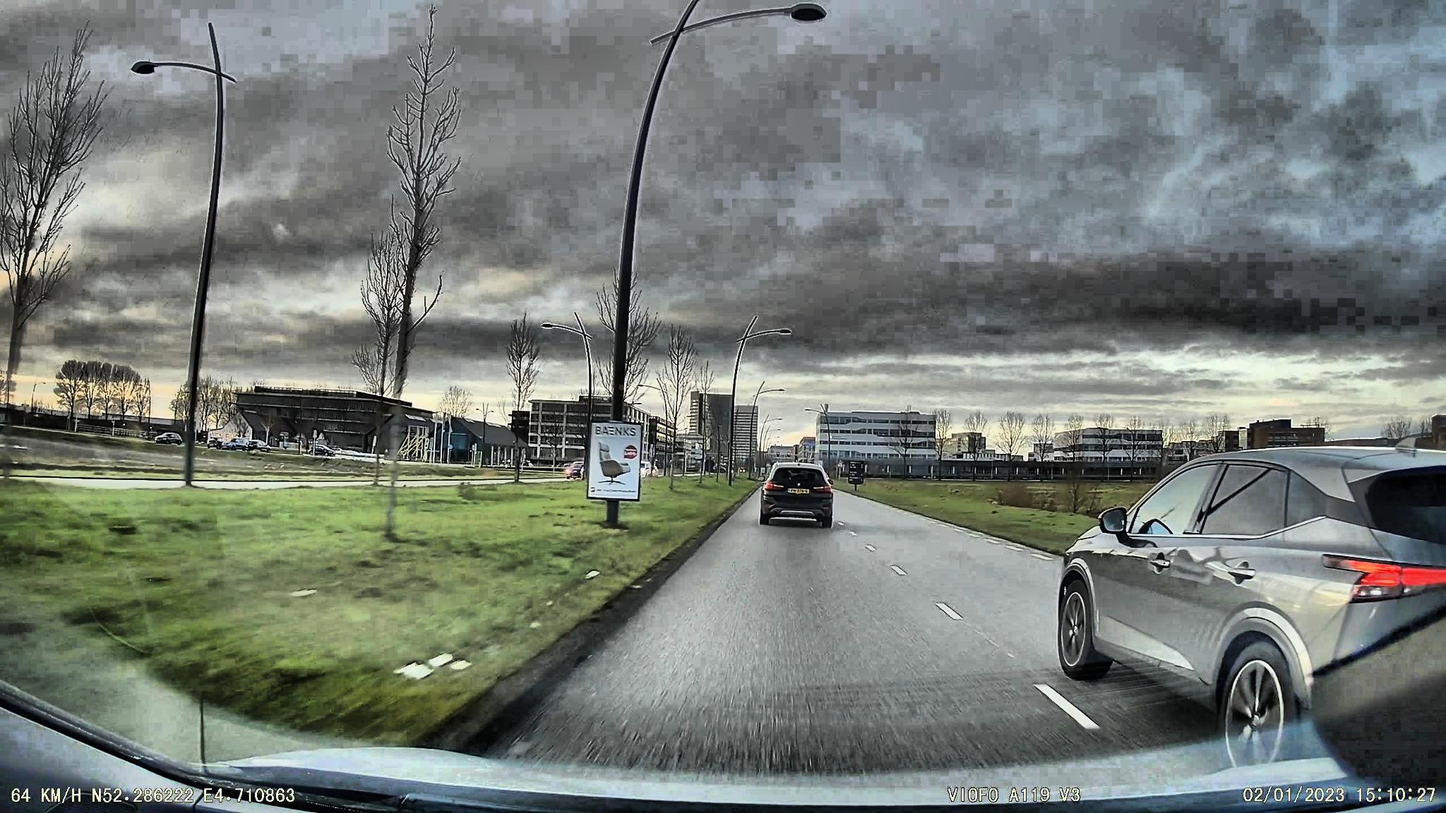Roads: (445, 496, 1212, 777)
